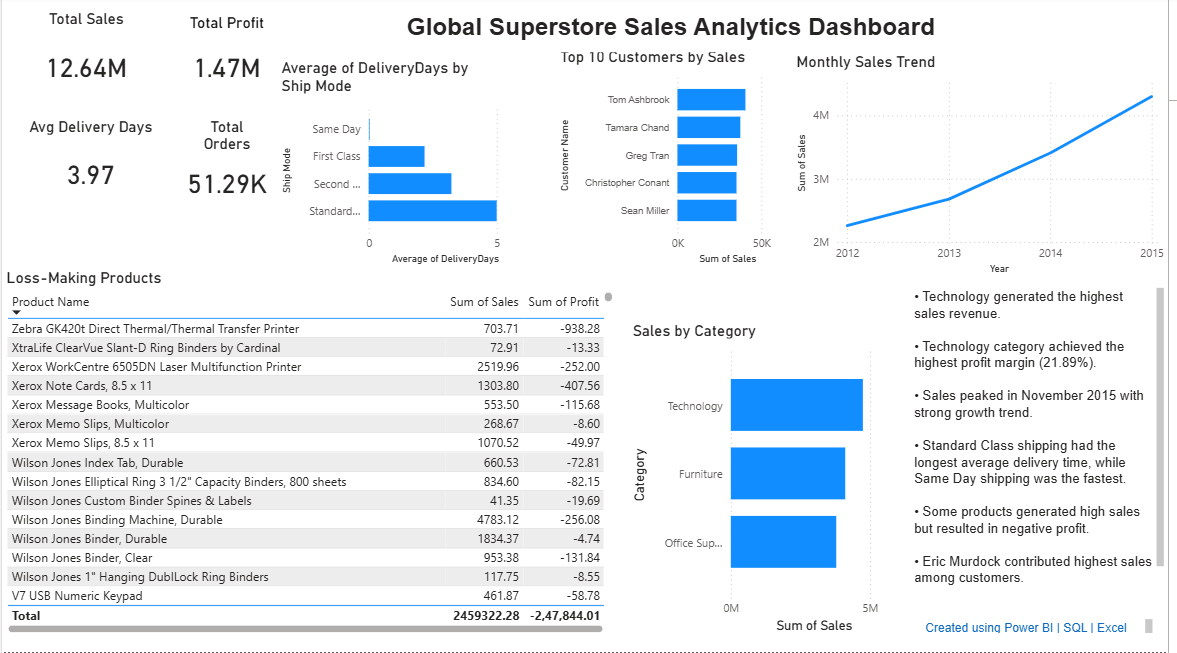

The dashboard page shown, as its layout file describes it:
{"tool":"powerbi","page":{"name":"Page 1","canvas":[1280,720],"ordinal":0},"visuals":[{"type":"card","title":"Total Sales","fields":{"Values":["Sum(orders.Sales)"]},"box":[11,15.1,163.3,102.9],"z":0},{"type":"card","title":"Total Profit","fields":{"Values":["Sum(orders.Profit)"]},"box":[183.9,19.2,126.2,96.1],"z":1000},{"type":"card","title":"Total Orders","fields":{"Values":["CountNonNull(orders.Order ID)"]},"box":[192.1,133.1,109.8,101.5],"z":2000},{"type":"card","title":"Avg Delivery Days","fields":{"Values":["Avg(orders.DeliveryDays)"]},"box":[11,133.1,172.9,101.5],"z":3000},{"type":"lineChart","title":"Monthly Sales Trend","fields":{"Category":["orders.Order Date.Variation.Date Hierarchy.Year","orders.Order Date.Variation.Date Hierarchy.Month"],"Y":["Sum(orders.Sales)"]},"box":[867.2,61.7,413,248.4],"z":4000},{"type":"clusteredBarChart","title":"Sales by Category","fields":{"Category":["orders.Category"],"Y":["Sum(orders.Sales)"]},"box":[687.5,356.8,310.1,347.2],"z":5000},{"type":"clusteredBarChart","fields":{"Category":["orders.Ship Mode"],"Y":["Avg(orders.DeliveryDays)"]},"box":[301.9,68.6,278.6,230.5],"z":6000},{"type":"clusteredBarChart","title":"Top 10 Customers by Sales","fields":{"Category":["orders.Customer Name"],"Y":["Sum(orders.Sales)"]},"box":[607.9,56.3,259.3,242.9],"z":7000},{"type":"tableEx","title":"Loss-Making Products","fields":{"Values":["orders.Product Name","Sum(orders.Sales)","Sum(orders.Profit)"]},"box":[0,299.1,675.1,404.8],"z":8000},{"type":"textbox","box":[417.2,13.7,850.8,48],"z":9000},{"type":"textbox","box":[996.2,315.6,284,351.3],"z":10000},{"type":"textbox","box":[1008.6,679.2,259.3,24.7],"z":11000}]}

Visuals, with their boxes in screenshot pixels (x1, y1, x2, y2), scaled from the page's 1280x720 canvas onto the 1177x653 screenshot:
"Total Sales" card: bbox=(10, 14, 160, 107)
"Total Profit" card: bbox=(169, 17, 285, 105)
"Total Orders" card: bbox=(177, 121, 278, 213)
"Avg Delivery Days" card: bbox=(10, 121, 169, 213)
"Monthly Sales Trend" lineChart: bbox=(797, 56, 1176, 281)
"Sales by Category" clusteredBarChart: bbox=(632, 324, 917, 638)
clusteredBarChart - orders.Ship Mode x Avg(orders.DeliveryDays): bbox=(278, 62, 534, 271)
"Top 10 Customers by Sales" clusteredBarChart: bbox=(559, 51, 797, 271)
"Loss-Making Products" tableEx: bbox=(0, 271, 621, 638)
textbox: bbox=(384, 12, 1166, 56)
textbox: bbox=(916, 286, 1176, 605)
textbox: bbox=(927, 616, 1166, 638)
